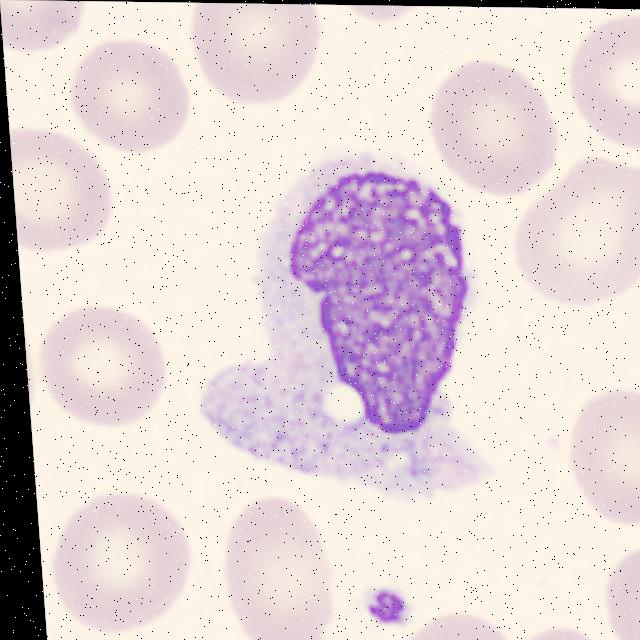monocyte: (185, 130, 525, 499)
platelets: (362, 568, 417, 626)
rbc: (27, 292, 183, 442), (47, 488, 202, 635), (207, 488, 340, 640), (511, 154, 640, 308), (415, 64, 564, 186), (8, 108, 116, 266), (181, 3, 344, 105), (60, 34, 190, 160), (546, 378, 640, 524), (0, 0, 96, 55), (392, 602, 516, 640), (21, 288, 46, 443), (603, 538, 640, 640), (329, 5, 434, 21)
